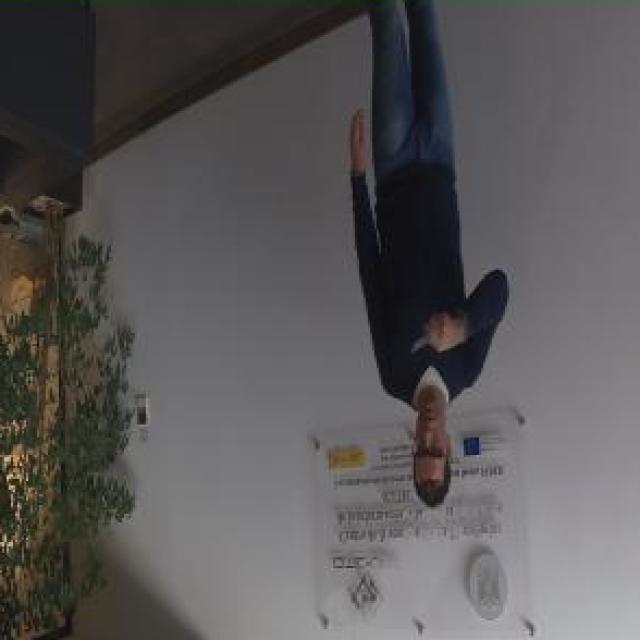knife: (405, 314, 439, 364)
